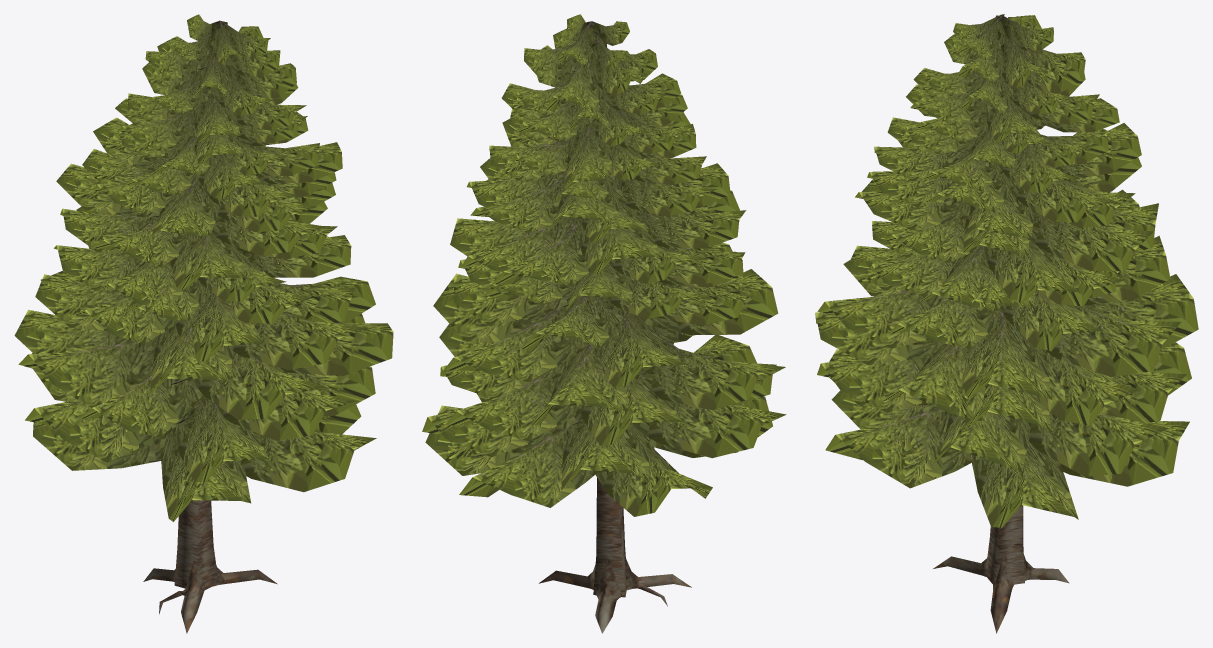
Rendered from Tree_02.fbx.
The picture shows the model from 3 angles, left to right: view 1: azimuth 30°, elevation 25°; view 2: azimuth 150°, elevation 25°; view 3: azimuth 270°, elevation 25°; orthographic projection. The views are drawn at different scales.
Parts seen in each view (by area): view 1: SM_PineTree_02, SM_PineTree_02_Trunk; view 2: SM_PineTree_02, SM_PineTree_02_Trunk; view 3: SM_PineTree_02, SM_PineTree_02_Trunk.
Boxes of the visible parts, x1,y1,x2,y2 form: SM_PineTree_02: (14,14,393,521); SM_PineTree_02_Trunk: (143,500,277,633); SM_PineTree_02: (422,14,786,516); SM_PineTree_02_Trunk: (539,477,691,633); SM_PineTree_02: (815,14,1198,527); SM_PineTree_02_Trunk: (933,505,1069,633).
Size of the model in its own units: 231 by 394 by 232.
